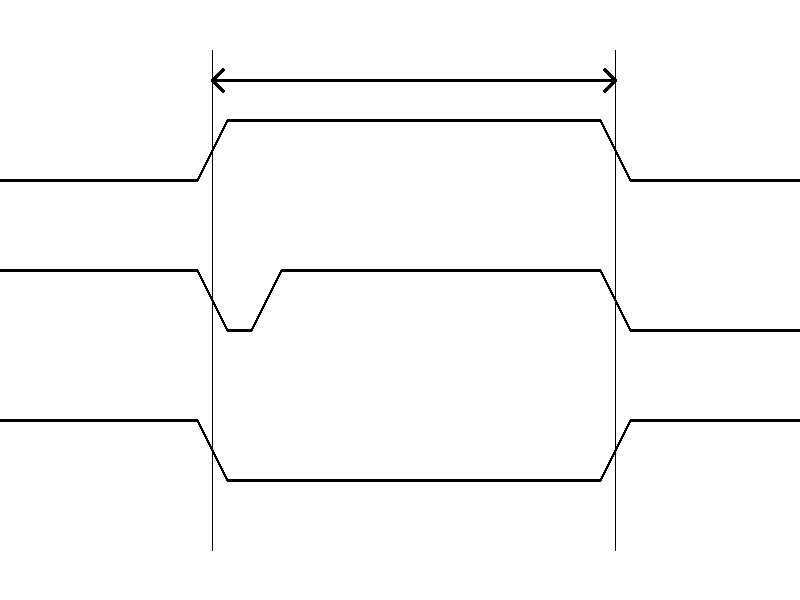double_arrow: (212, 65, 615, 95)
